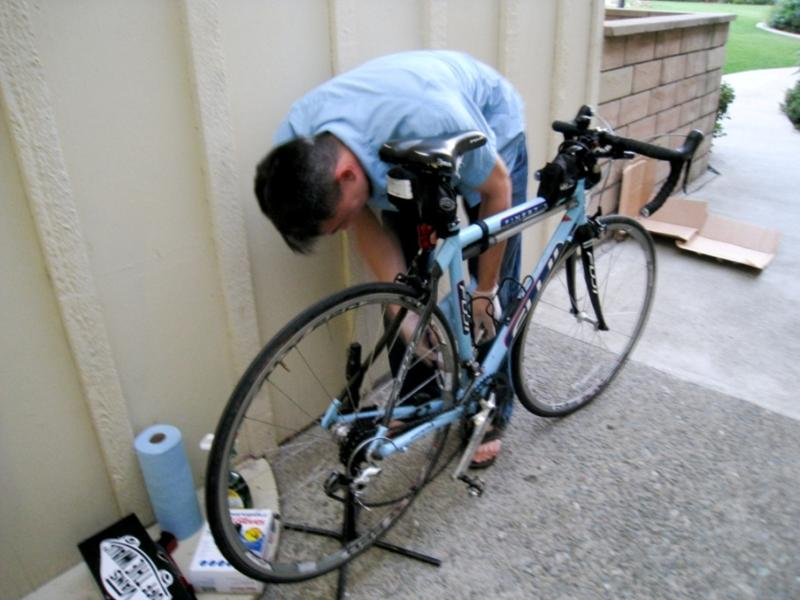person: (255, 47, 531, 473)
